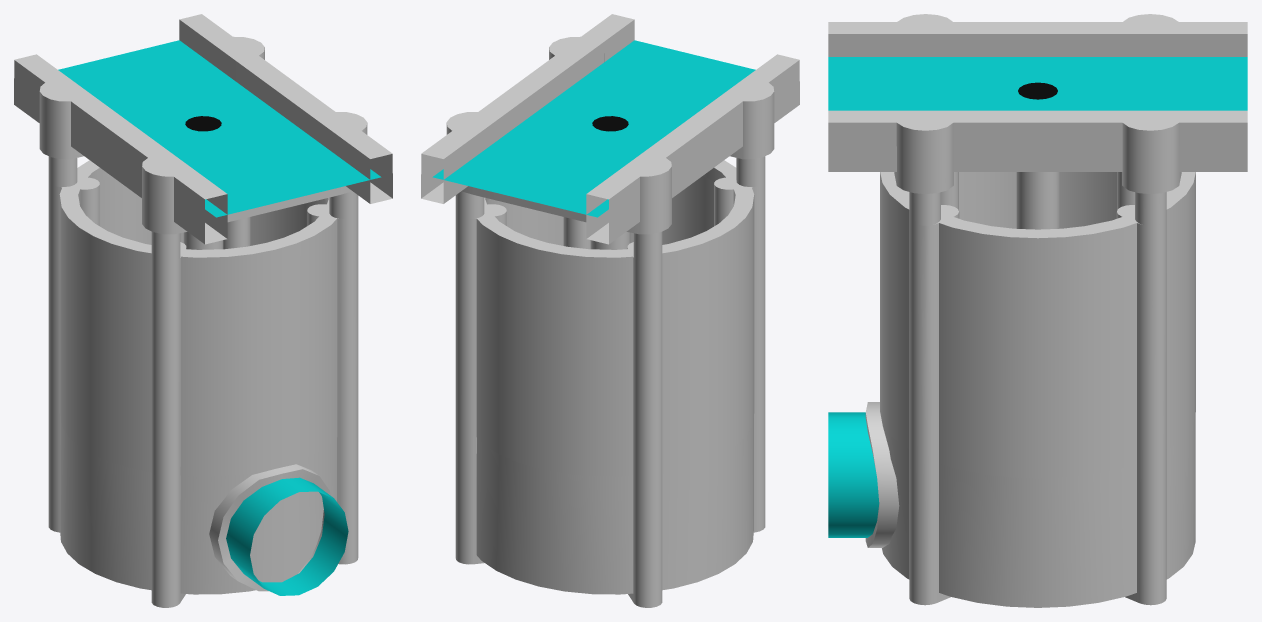
File: FluidUnpackerDefaultInternalVariant.gltf
3 views of the same model, side by side, from view 1: azimuth 30°, elevation 25°; view 2: azimuth 150°, elevation 25°; view 3: azimuth 270°, elevation 25° (orthographic). The views are drawn at different scales.
Visible parts, largest first — view 1: FluidUnpacker, FluidUnpackerGlas; view 2: FluidUnpacker, FluidUnpackerGlas; view 3: FluidUnpacker, FluidUnpackerGlas.
Boxes of the visible parts, x1,y1,x2,y2 form: FluidUnpacker: (14,14,392,607); FluidUnpackerGlas: (59,176,337,476); FluidUnpacker: (421,14,799,607); FluidUnpackerGlas: (476,176,754,476); FluidUnpacker: (828,14,1247,607); FluidUnpackerGlas: (880,172,1195,478).
Bounding box in the file's own units: 0.7537 × 1.26 × 1.
